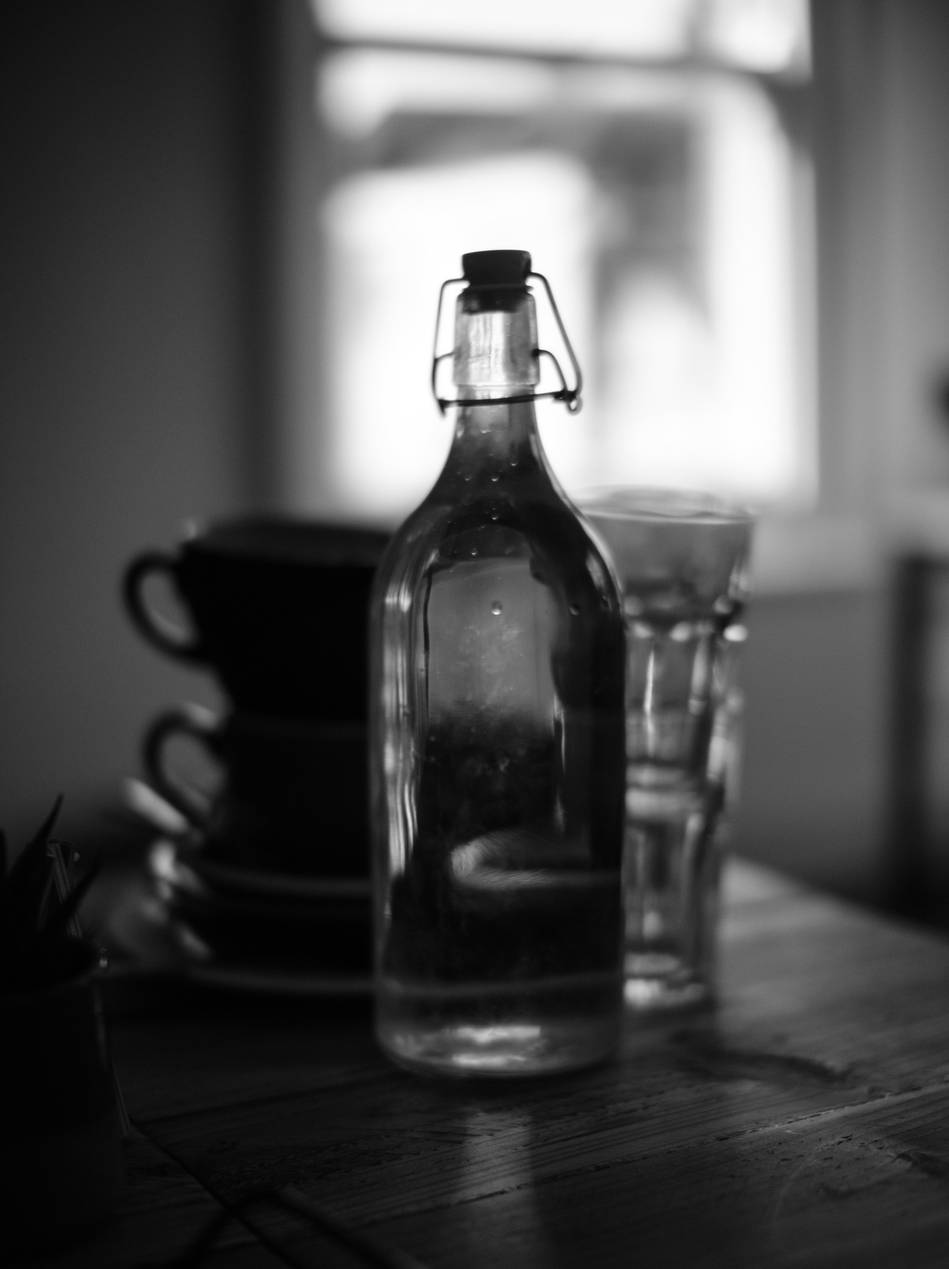Bottle-Detection: (319, 203, 684, 1129)
